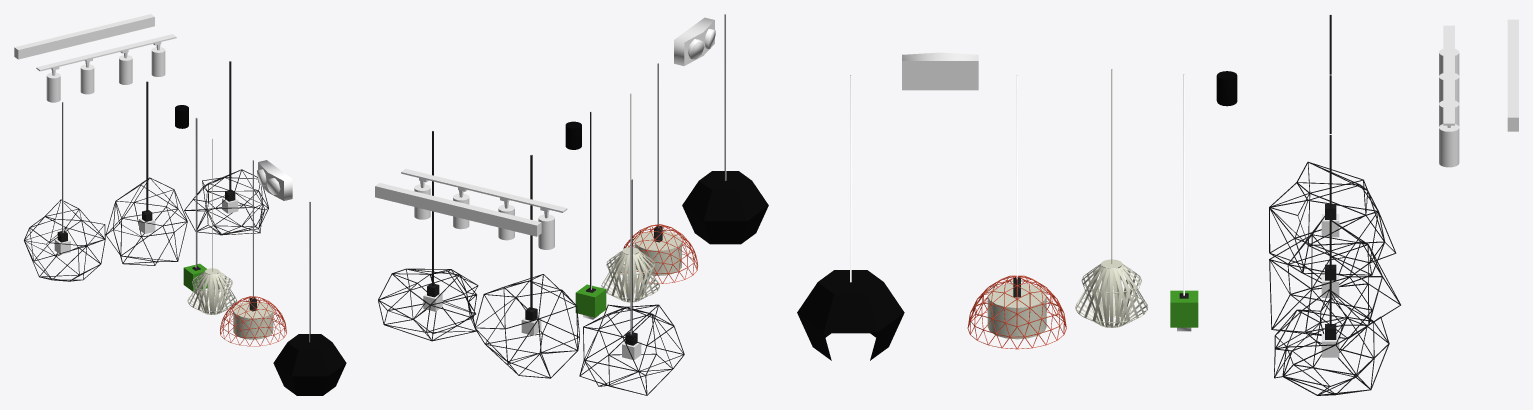
Rendered from Lights.fbx.
3 renders of one model, left to right at view 1: azimuth 30°, elevation 25°; view 2: azimuth 150°, elevation 25°; view 3: azimuth 270°, elevation 25°, orthographic. The views are drawn at different scales.
Parts seen in each view (by area): view 1: Light_8, Light_6, Light_5_2, Light_5_3, Light_5_1, Light_1, Light_4, EmergencyLight, Light_3, Light_7, Light_3_Light.003, Light_3_Light.002 (+3 smaller); view 2: Light_8, Light_5_1, Light_5_2, Light_5_3, Light_6, Light_1, Light_4, EmergencyLight, Light_3, Light_7, Light_3_Light.003, Light_2; view 3: Light_8, Light_6, Light_5_3, Light_4, Light_5_1, Light_5_2, EmergencyLight, Light_7, Light_1, Light_3, Light_3_Light, Light_2.
Boxes of the visible parts, <box> form: Light_8: <box>273,201,346,395</box>; Light_6: <box>220,160,286,346</box>; Light_5_2: <box>105,81,187,265</box>; Light_5_3: <box>184,61,268,235</box>; Light_5_1: <box>24,102,105,281</box>; Light_1: <box>14,14,154,59</box>; Light_4: <box>187,139,236,314</box>; EmergencyLight: <box>257,160,292,200</box>; Light_3: <box>36,34,176,75</box>; Light_7: <box>183,117,207,292</box>; Light_3_Light.003: <box>46,72,60,102</box>; Light_3_Light.002: <box>80,64,94,94</box>; Light_8: <box>682,14,768,244</box>; Light_5_1: <box>579,179,684,395</box>; Light_5_2: <box>474,154,579,378</box>; Light_5_3: <box>378,130,478,341</box>; Light_6: <box>621,63,698,283</box>; Light_1: <box>375,183,541,236</box>; Light_4: <box>601,93,659,302</box>; EmergencyLight: <box>674,17,715,65</box>; Light_3: <box>401,168,567,218</box>; Light_7: <box>575,111,606,319</box>; Light_3_Light.003: <box>538,214,554,249</box>; Light_2: <box>565,121,581,149</box>; Light_8: <box>797,75,904,360</box>; Light_6: <box>967,75,1066,349</box>; Light_5_3: <box>1274,134,1389,395</box>; Light_4: <box>1075,69,1148,327</box>; Light_5_1: <box>1269,14,1396,285</box>; Light_5_2: <box>1269,74,1400,352</box>; EmergencyLight: <box>902,52,978,90</box>; Light_7: <box>1170,74,1198,331</box>; Light_1: <box>1507,19,1518,131</box>; Light_3: <box>1443,25,1454,127</box>; Light_3_Light: <box>1439,124,1459,167</box>; Light_2: <box>1216,71,1237,106</box>.
Size of the model in its own units: 177 by 138 by 311.
